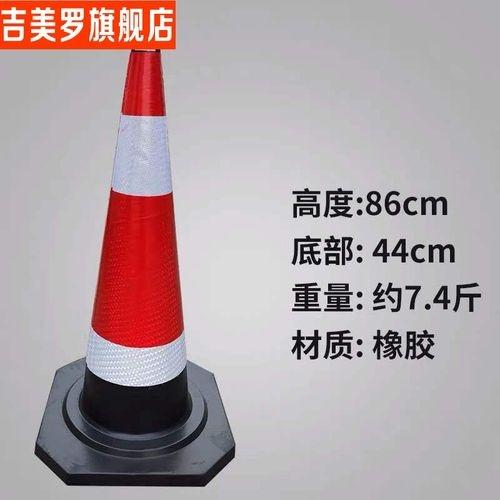cone_barrel: (67, 41, 202, 453)
